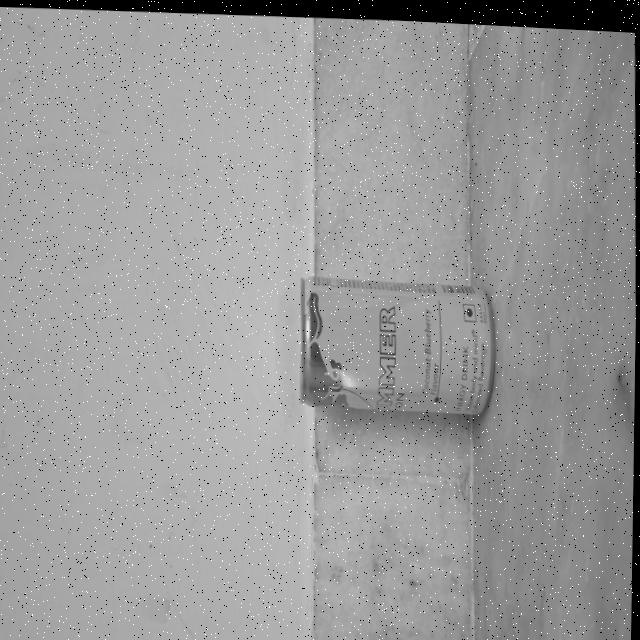Redbull Summer Edition: (292, 236, 514, 427)
